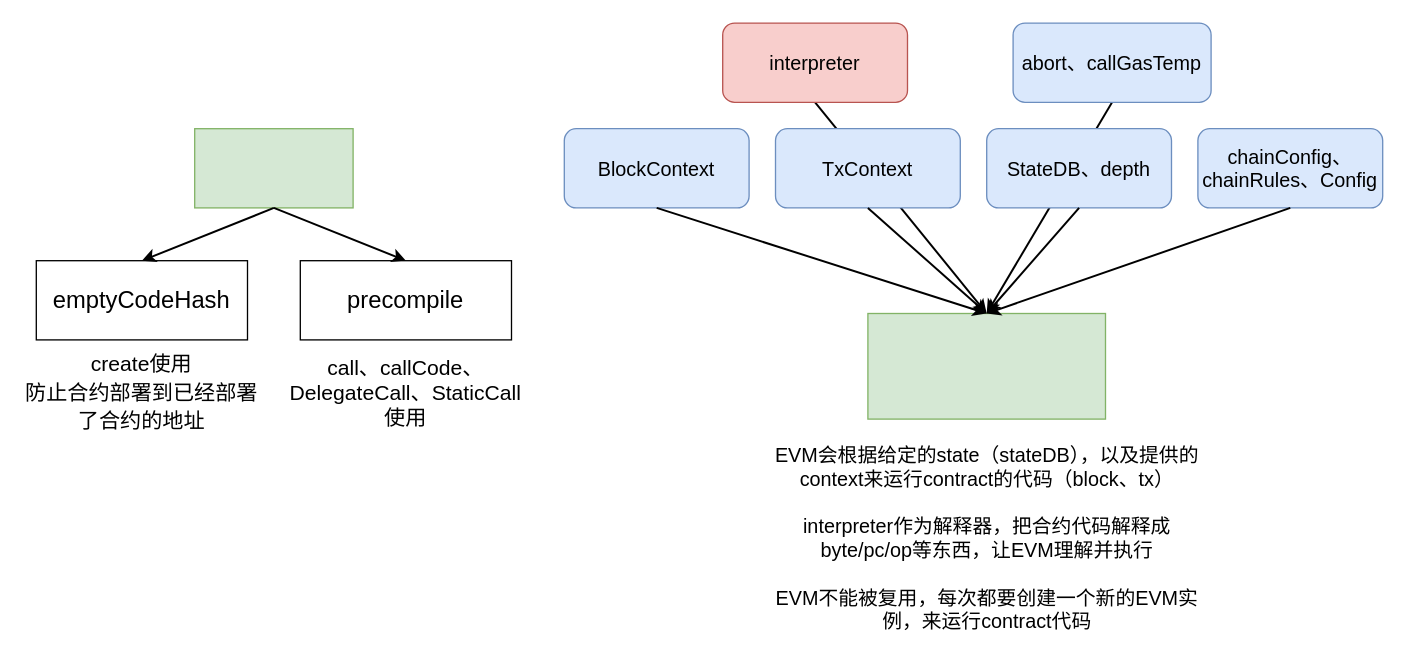
The diagram is 1406 pixels wide and 667 high, and some of its shapes have lost their labels. The shapes that lost their labels are listed below. From the top down, each one's box as (x1, y1, x2, y2) in pixels, then its label:
(193, 127, 353, 208): Tools
(867, 312, 1106, 419): EVM run a contract
